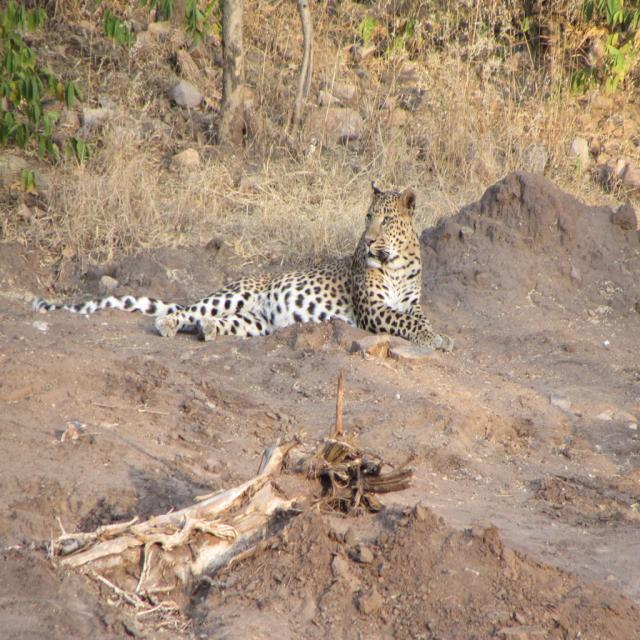Leopard: (40, 186, 445, 340)
